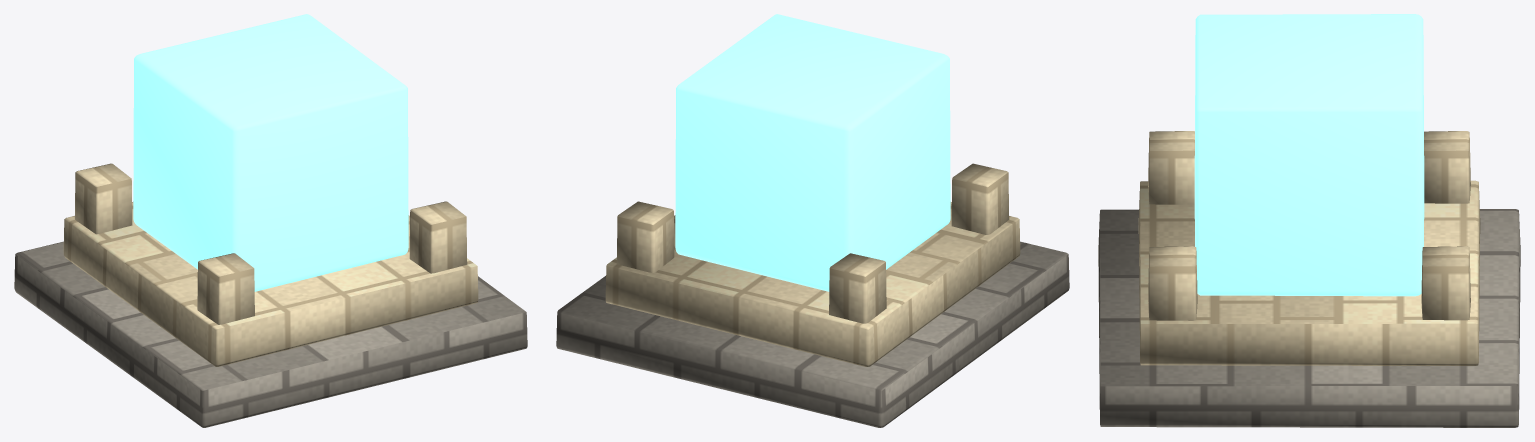
Rendered from OBJ29_sql_query_core_hub.glb.
3 views of the same model, side by side, from view 1: azimuth 30°, elevation 25°; view 2: azimuth 150°, elevation 25°; view 3: azimuth 270°, elevation 25° (orthographic). The views are drawn at different scales.
Parts seen in each view (by area): view 1: CoreCube, BaseStep1, BaseStep2, Clamp_4_4, Clamp_-4_4, Clamp_-4_-4; view 2: CoreCube, BaseStep1, BaseStep2, Clamp_-4_4, Clamp_4_-4, Clamp_-4_-4; view 3: CoreCube, BaseStep1, BaseStep2, Clamp_4_4, Clamp_4_-4, Clamp_-4_4, Clamp_-4_-4.
Boxes of the visible parts, left/top/right/bottom form: CoreCube: left=133, top=14, right=408, bottom=291; BaseStep1: left=14, top=241, right=527, bottom=427; BaseStep2: left=63, top=202, right=478, bottom=366; Clamp_4_4: left=409, top=201, right=467, bottom=273; Clamp_-4_4: left=197, top=253, right=254, bottom=324; Clamp_-4_-4: left=74, top=163, right=132, bottom=234; CoreCube: left=675, top=14, right=950, bottom=291; BaseStep1: left=556, top=241, right=1069, bottom=427; BaseStep2: left=605, top=202, right=1020, bottom=366; Clamp_-4_4: left=951, top=163, right=1009, bottom=234; Clamp_4_-4: left=616, top=201, right=674, bottom=272; Clamp_-4_-4: left=829, top=253, right=886, bottom=323; CoreCube: left=1194, top=14, right=1424, bottom=296; BaseStep1: left=1098, top=209, right=1520, bottom=427; BaseStep2: left=1138, top=180, right=1480, bottom=365; Clamp_4_4: left=1148, top=246, right=1197, bottom=320; Clamp_4_-4: left=1421, top=246, right=1470, bottom=320; Clamp_-4_4: left=1148, top=131, right=1194, bottom=204; Clamp_-4_-4: left=1424, top=131, right=1470, bottom=203.
Size of the model in its own units: 1.36 by 1 by 1.36.
4 materials, 2 textured.
